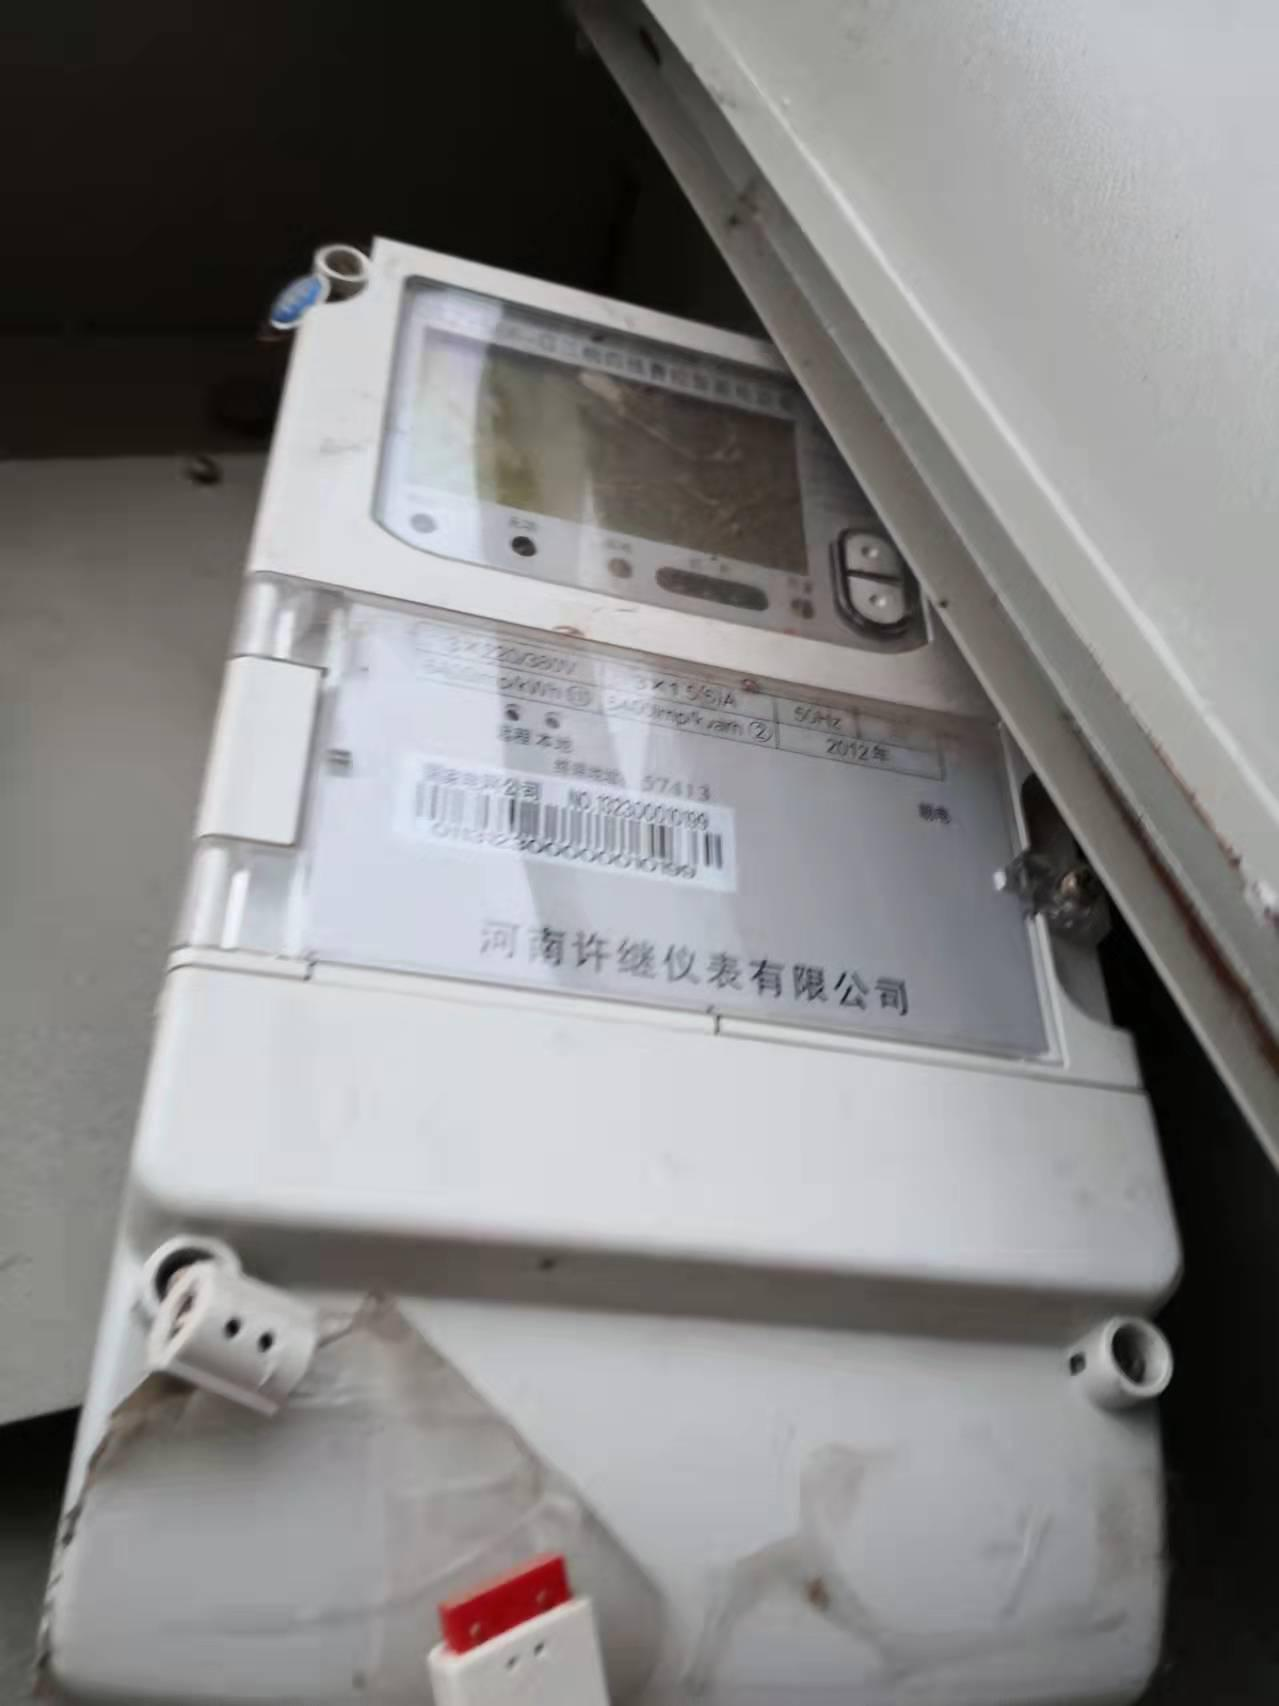digital: (128, 231, 1186, 1290)
